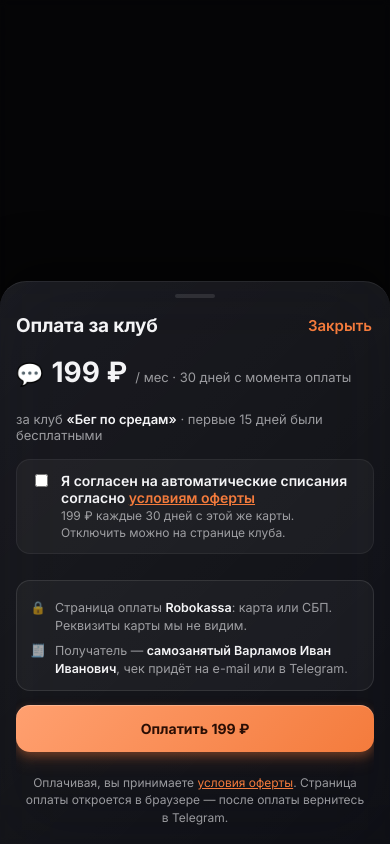
BillingSheet › показывает цену и чат, чекаут открывает страницу оплаты и переводит в «проверяем оплату»
The image size is (390, 844).
Check: the text "199 ₽" is shown, box [52,355,127,389]
Check: the text "за клуб «Бег по средам» · первые 15 дней были бесплатными" is shown, box [16,411,374,443]
Note: Ссылка из отметки раскрывает оферту текстом внутри шита (вторая ссылка — под кнопкой оплаты).
Click the button "условиям оферты" at {"x": 192, "y": 497}, box [129,489,255,506]
(page scrolled)
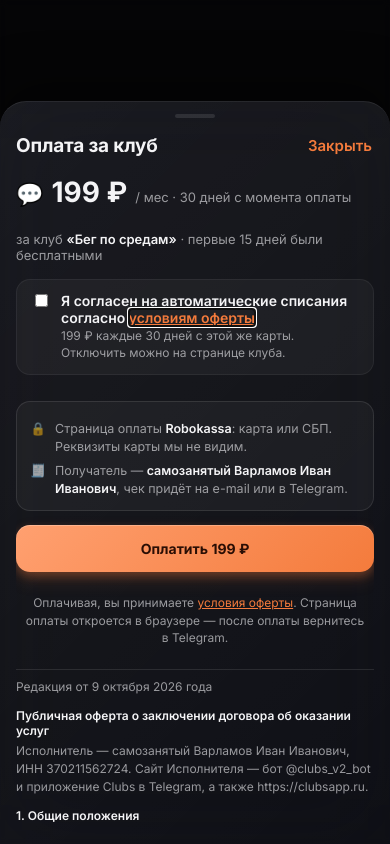
Check: the text "Исполнитель — самозанятый Варламов Иван Иванович, ИНН" is shown, box [16,742,371,794]
Click the checkbox named "Я согласен на автоматические списания согласно условиям оферты" at {"x": 42, "y": 301}, box [35,294,48,307]
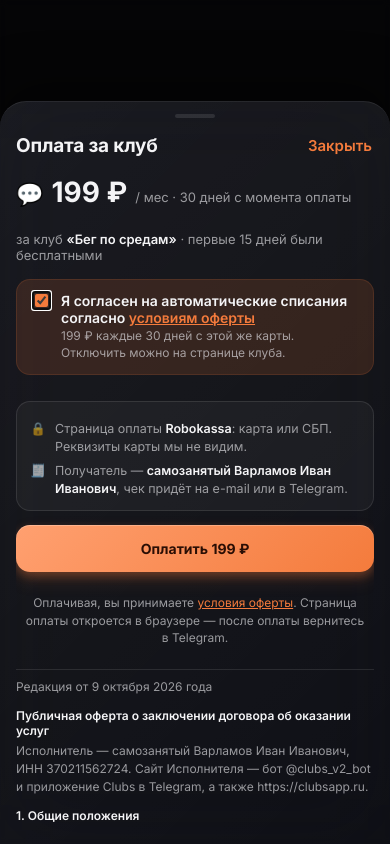
Check: the checkbox named "Я согласен на автоматические списания согласно условиям оферты" is checked, box [35,294,48,307]
Click the button "Оплатить 199 ₽" at {"x": 195, "y": 549}, box [16,525,374,572]
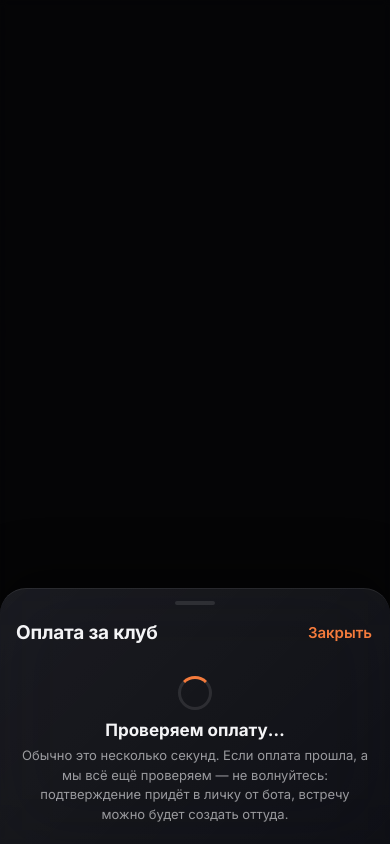
Check: the number of buttons is 1, box [306,619,374,646]
Check: the text "Проверяем оплату…" is shown, box [105,720,285,740]
